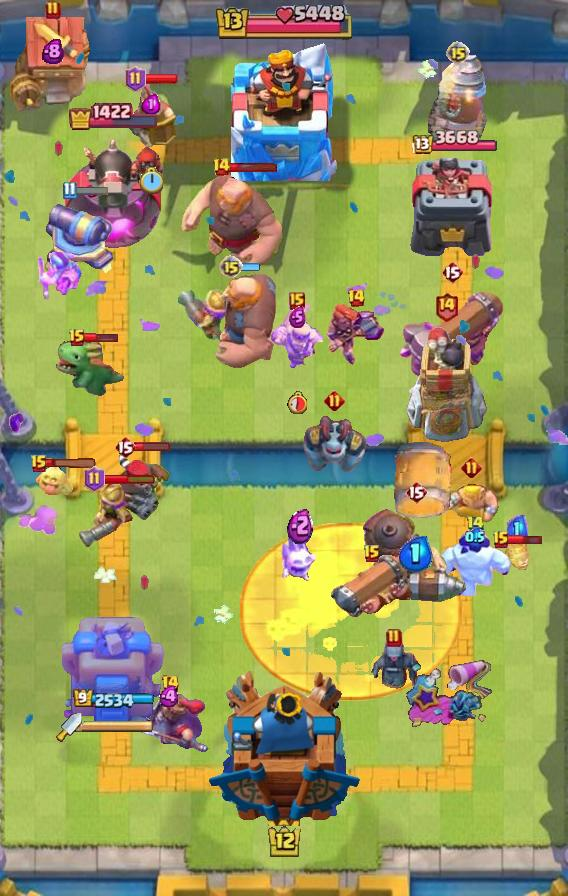archer: (442, 482, 500, 526)
arrows: (271, 305, 326, 371)
balloon: (178, 172, 286, 272), (211, 269, 279, 371)
bar: (62, 611, 166, 731)
bat-evolution: (34, 460, 74, 498)
battle-healer: (328, 552, 416, 624)
battle-ram: (365, 637, 423, 705)
bomb-tower: (78, 479, 136, 549), (177, 286, 231, 346)
clock: (213, 5, 355, 43)
dirt: (385, 441, 453, 521)
earthquake: (125, 79, 177, 147)
electro-spirit: (399, 536, 433, 572), (287, 508, 313, 545), (508, 515, 529, 543), (42, 38, 64, 64), (159, 686, 181, 707), (465, 527, 485, 547), (289, 306, 307, 328), (142, 93, 160, 114)
electro-wizard: (55, 335, 126, 397)
elixir: (139, 167, 163, 194), (287, 391, 307, 414)
elixir-golem-big: (129, 686, 211, 754)
elixir-golem-small: (300, 414, 368, 476)
emote: (103, 473, 156, 485), (228, 162, 278, 174), (46, 458, 98, 469), (508, 534, 543, 547), (143, 73, 179, 85), (134, 441, 171, 452), (75, 185, 110, 196), (84, 332, 119, 343), (241, 262, 260, 273)
furnace: (398, 288, 506, 398)
giant-snowball: (35, 251, 83, 303)
ice-spirit-evolution: (501, 536, 533, 572)
king-tower: (207, 669, 361, 826), (231, 43, 337, 181)
king-tower-bar: (82, 720, 154, 734)
magic-archer: (428, 54, 488, 146)
mirror: (280, 533, 320, 583)
phoenix-egg: (240, 523, 464, 701)
phoenix-small: (106, 448, 172, 522)
queen-tower: (409, 158, 500, 256)
rage: (432, 528, 518, 596)
royal-recruit: (44, 194, 116, 278)
selected: (68, 101, 160, 130), (411, 130, 498, 157), (73, 689, 155, 711)
sparky: (10, 16, 96, 114)
tesla-evolution: (325, 301, 387, 369)
text: (433, 291, 458, 322), (446, 41, 470, 65), (219, 255, 243, 279), (83, 466, 105, 492), (126, 66, 147, 92), (441, 260, 463, 284), (114, 435, 136, 459), (405, 480, 427, 504), (323, 390, 344, 411), (462, 457, 483, 478), (212, 157, 232, 177), (347, 288, 366, 308), (161, 674, 180, 694), (466, 514, 485, 533), (68, 328, 86, 348), (30, 454, 48, 474), (492, 530, 510, 550), (363, 544, 381, 564), (45, 0, 61, 20), (386, 628, 402, 648), (289, 292, 305, 310), (62, 181, 77, 200)
tower-bar: (60, 132, 167, 256)
wizard: (360, 507, 472, 605)
zappy: (403, 325, 488, 447)
